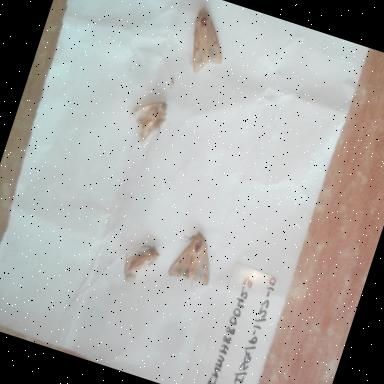abw: (176, 2, 239, 83), (160, 222, 226, 298), (118, 86, 180, 155), (114, 234, 164, 294)
